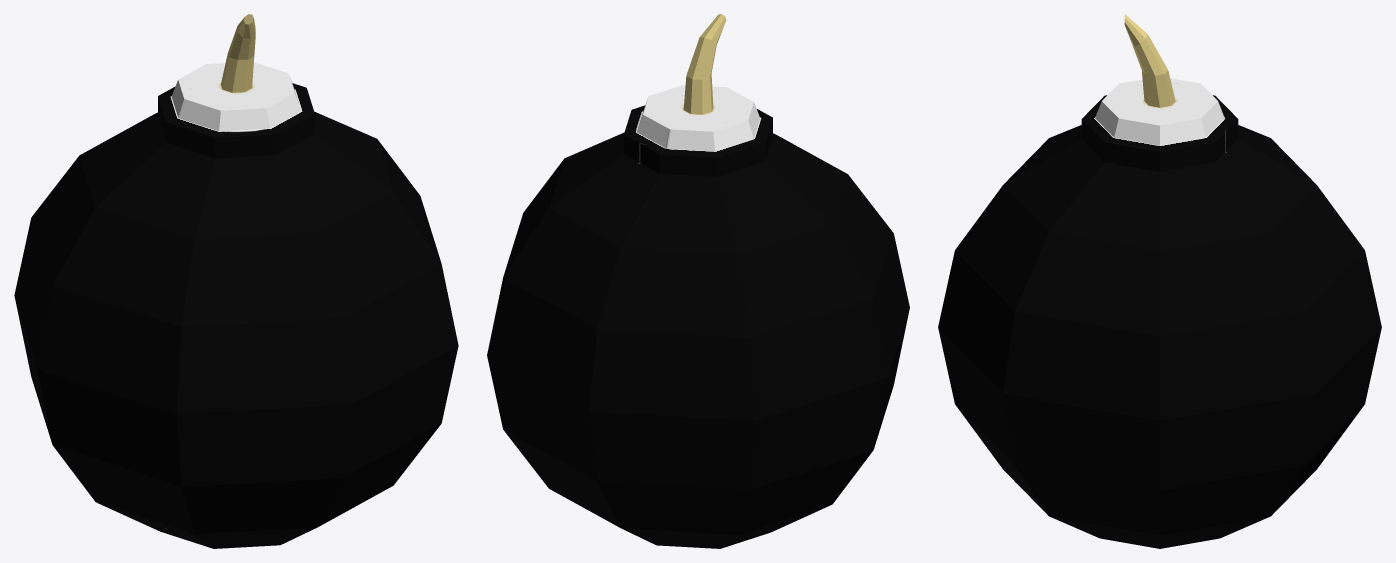
Rendered from bomba.fbx.
3 views of the same model, side by side, from view 1: azimuth 30°, elevation 25°; view 2: azimuth 150°, elevation 25°; view 3: azimuth 270°, elevation 25° (orthographic). The views are drawn at different scales.
Visible parts, largest first — view 1: Sphere; view 2: Sphere; view 3: Sphere.
Part boxes in pixels (<box>): Sphere: <box>14,14,458,548</box>; Sphere: <box>487,14,909,548</box>; Sphere: <box>938,14,1381,548</box>.
Bounding box in the file's own units: 200 × 254 × 200.
Materials: 1 (1 with a texture image).
